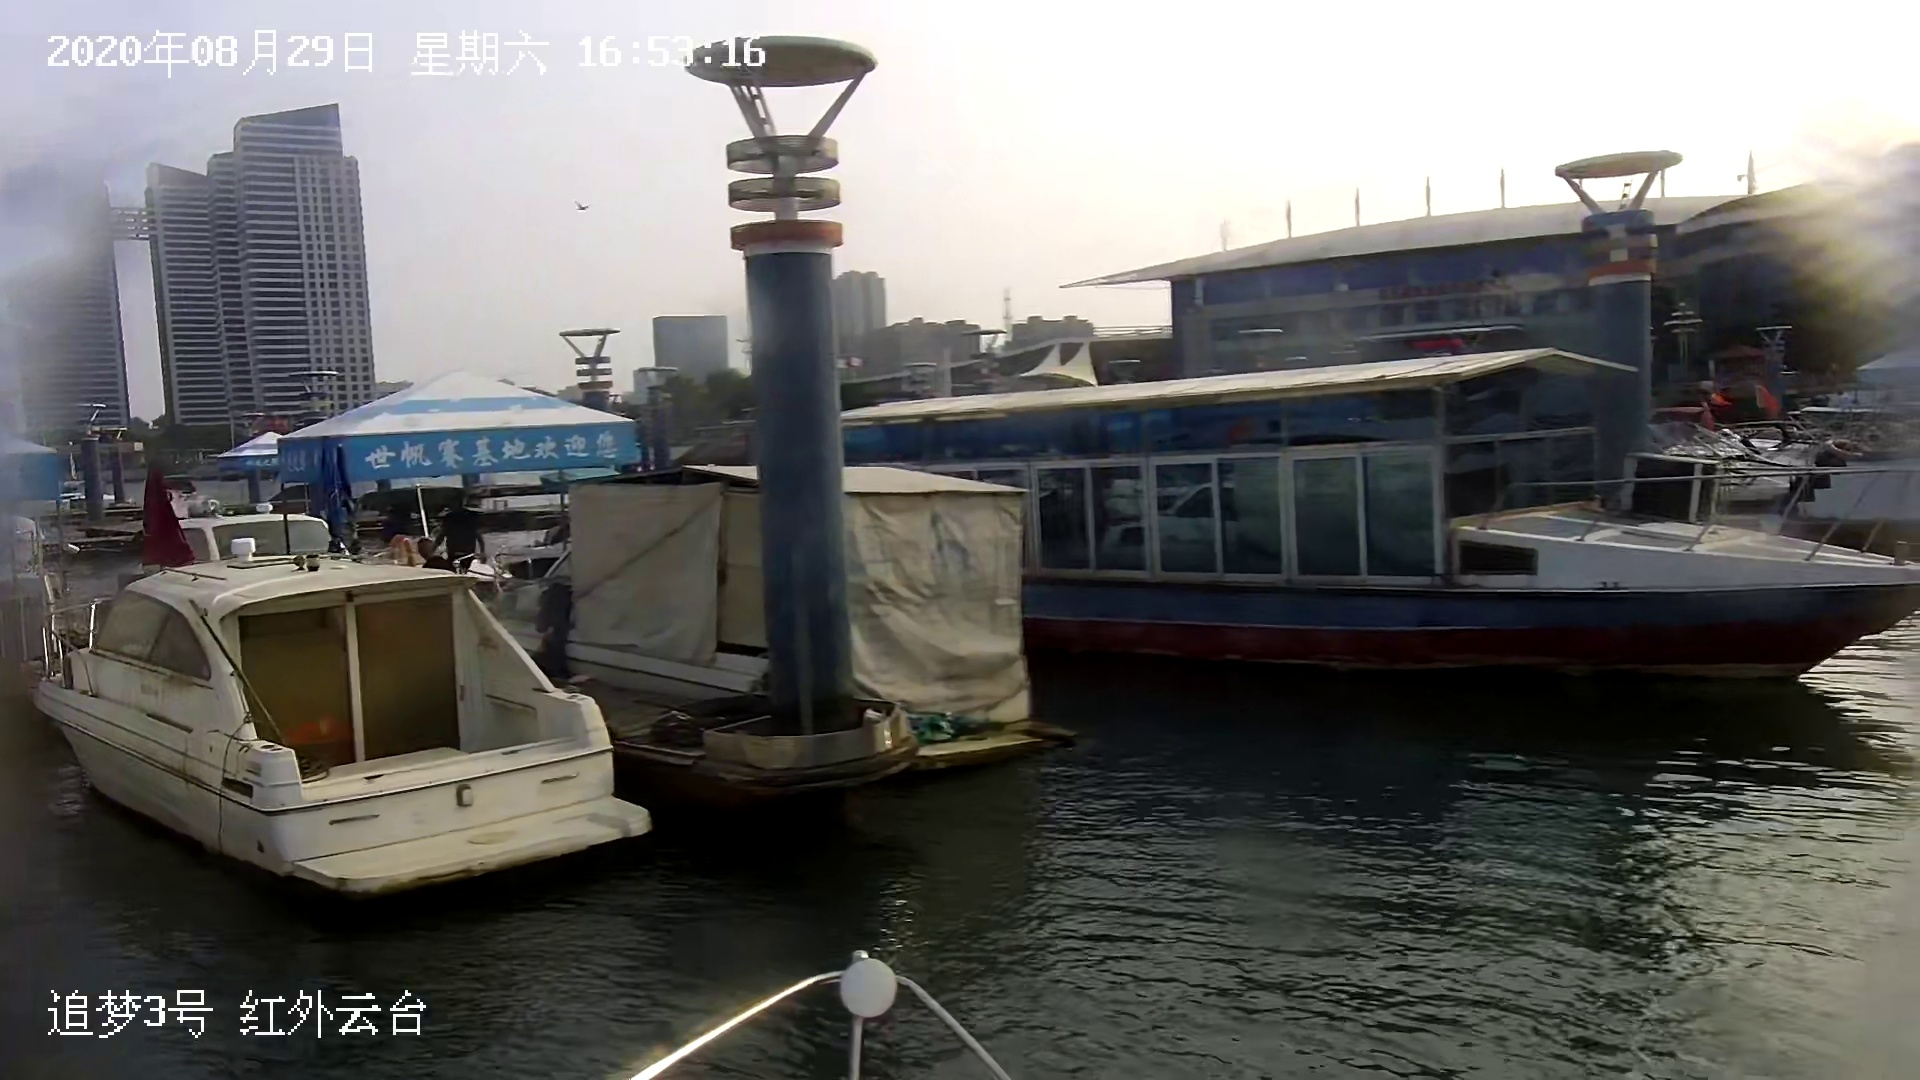barrier: (781, 389, 1915, 686), (36, 553, 651, 893), (567, 462, 1095, 760)
coast: (18, 1, 1920, 781)
